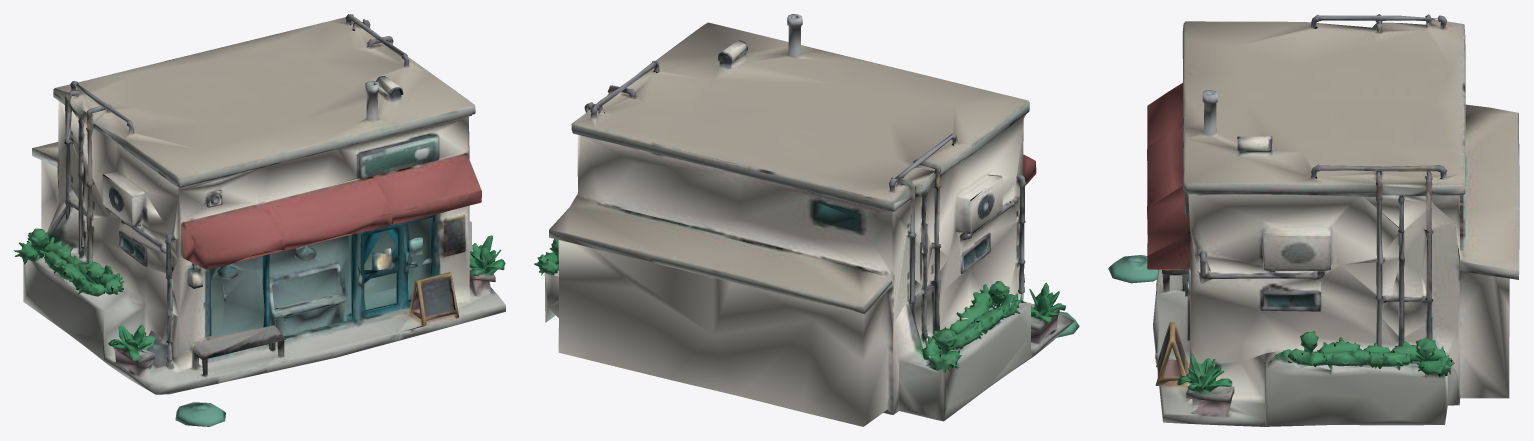
The model's file is building12.glb.
3 views of the same model, side by side, from view 1: azimuth 30°, elevation 25°; view 2: azimuth 150°, elevation 25°; view 3: azimuth 270°, elevation 25° (orthographic). The views are drawn at different scales.
Parts seen in each view (by area): view 1: lo; view 2: lo; view 3: lo.
Boxes of the visible parts, <box> form: lo: <box>14,14,505,426</box>; lo: <box>534,14,1079,426</box>; lo: <box>1108,14,1519,426</box>.
Size of the model in its own units: 1 by 0.6349 by 0.8162.
1 material, 1 textured.
